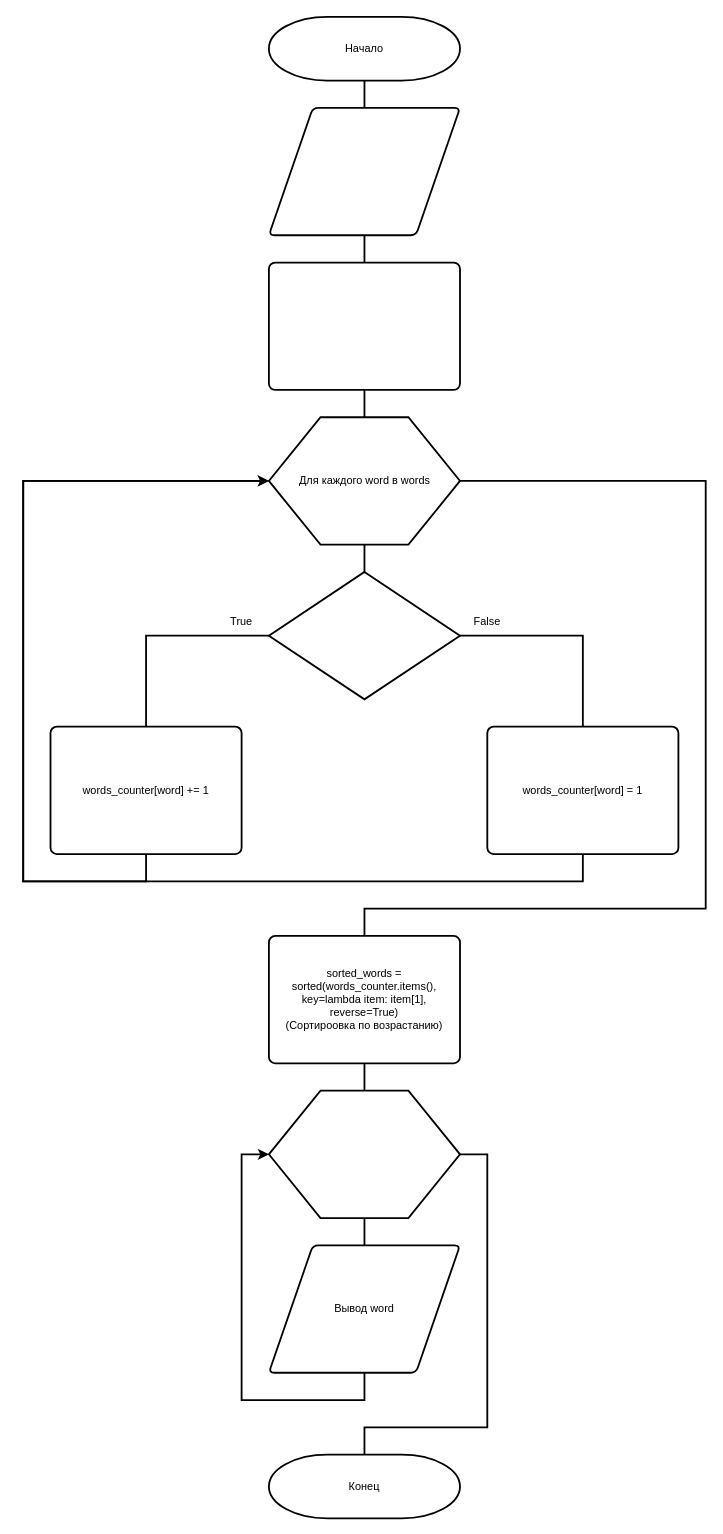
This 723x1534 diagram has some shape labels left out. The shapes that lost their labels are listed below. From the top down, each one's centre as x and y in pixels, then its label:
At pixel 364 171: "Ввод текста в text".
At pixel 364 325: "words = text.lower().split() words_counter = dict()".
At pixel 364 635: "word in words_counter".
At pixel 364 1153: "Для каждой пары (word, count) в sorted_words[:5] (Перебор первых 5 элементов)".
